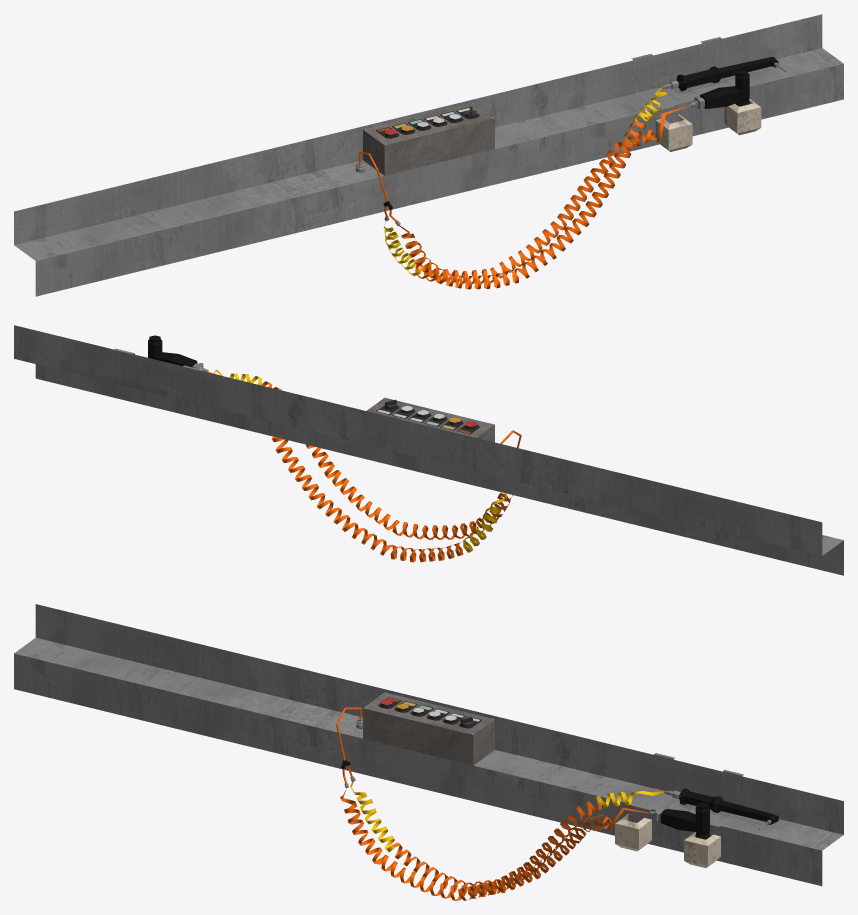
Rendered from jiance.FBX.
3 renders of one model, top to bottom at view 1: azimuth 30°, elevation 25°; view 2: azimuth 150°, elevation 25°; view 3: azimuth 330°, elevation 25°, orthographic.
Parts seen in each view (by area): view 1: YF_Model_jiance; view 2: YF_Model_jiance; view 3: YF_Model_jiance.
Part boxes in pixels (x1,y1,x2,y2): YF_Model_jiance: [14, 14, 843, 296]; YF_Model_jiance: [14, 325, 843, 575]; YF_Model_jiance: [14, 604, 843, 900].
Bounding box in the file's own units: 361 × 71.4 × 36.3.
Materials: 1 (1 with a texture image).
